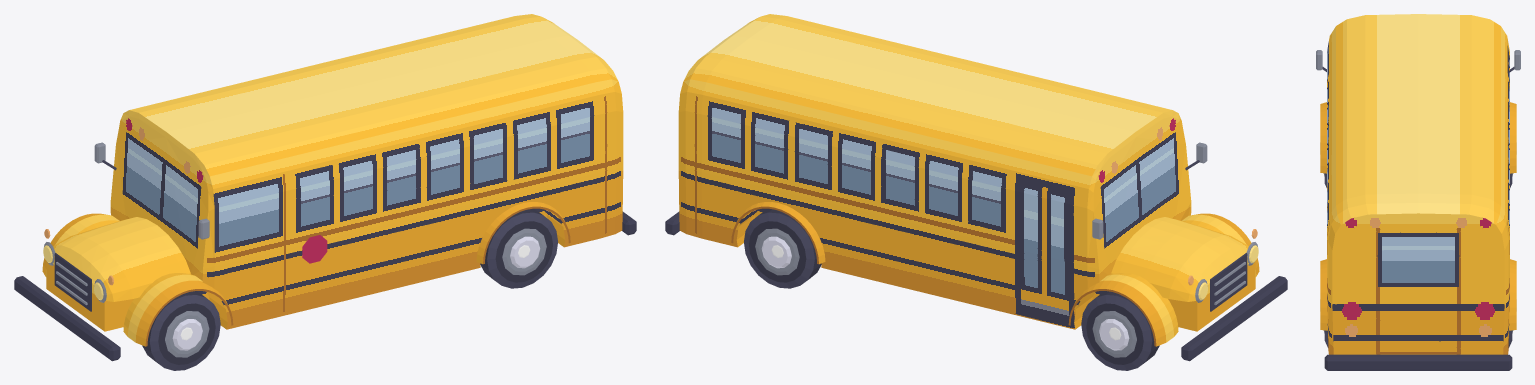
3 renders of one model, left to right at view 1: azimuth 30°, elevation 25°; view 2: azimuth 150°, elevation 25°; view 3: azimuth 270°, elevation 25°, orthographic. The views are drawn at different scales.
Visible parts, largest first — view 1: Body_static, Wheel_RL_tire_hub, Wheel_FL_tire_hub; view 2: Body_static, Wheel_RR_tire_hub, Wheel_FR_tire_hub; view 3: Body_static.
Part boxes in pixels (<box>): Body_static: <box>14,14,636,361</box>; Wheel_RL_tire_hub: <box>480,208,557,288</box>; Wheel_FL_tire_hub: <box>142,291,220,370</box>; Body_static: <box>665,14,1287,361</box>; Wheel_RR_tire_hub: <box>744,208,821,288</box>; Wheel_FR_tire_hub: <box>1081,291,1159,370</box>; Body_static: <box>1316,14,1520,370</box>.
Bounding box in the file's own units: 121 × 43.13 × 42.78.
1 material, 1 textured.
